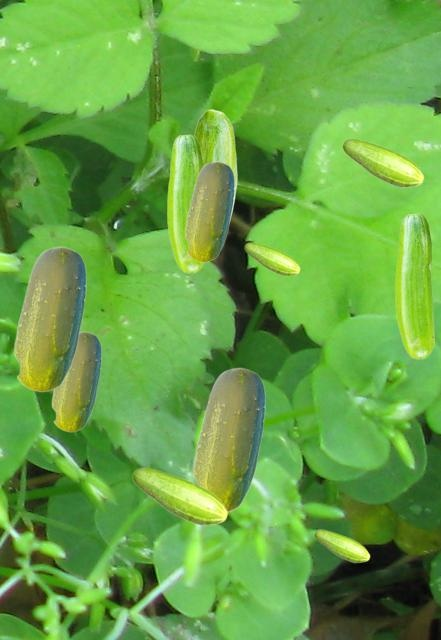cucumber: (192, 367, 264, 512), (13, 246, 85, 391), (395, 213, 433, 358), (132, 467, 227, 525), (167, 134, 204, 272), (51, 331, 100, 431), (184, 161, 233, 261), (193, 109, 236, 219), (342, 138, 423, 187), (314, 529, 369, 562), (244, 242, 299, 275)
